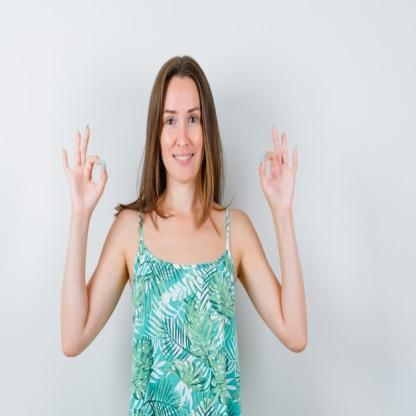ok: (62, 121, 108, 216), (257, 119, 299, 213)
